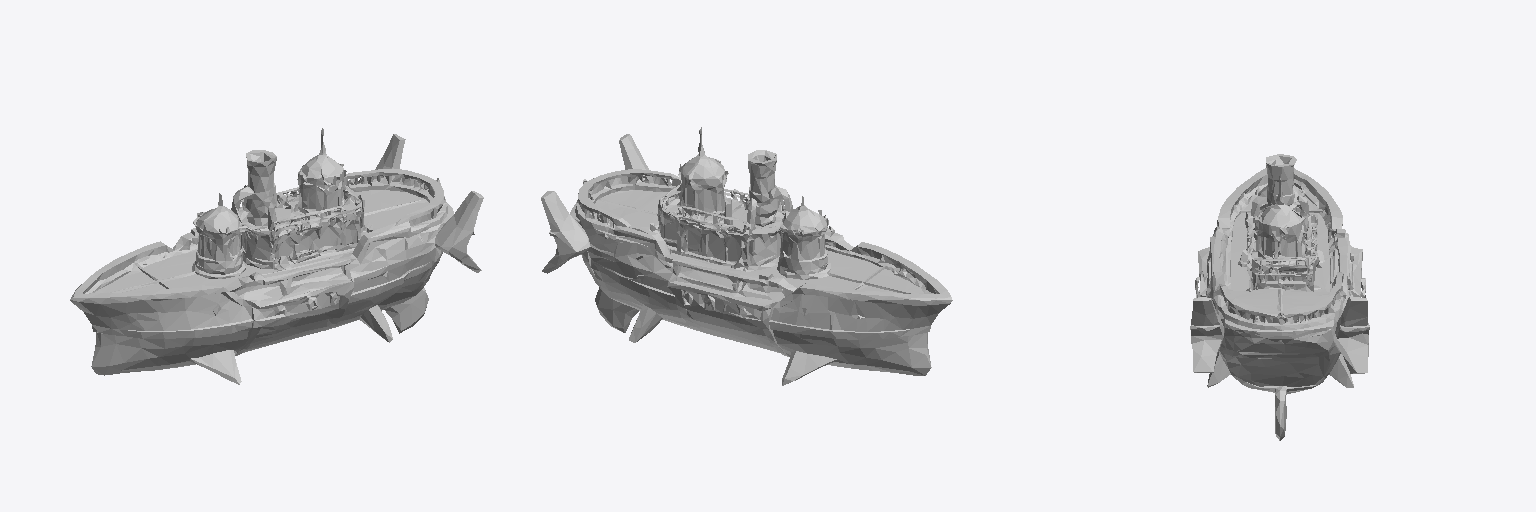
Rendered from Steampunk_Vessel_0513225445_texture.obj.
3 renders of one model, left to right at view 1: azimuth 30°, elevation 25°; view 2: azimuth 150°, elevation 25°; view 3: azimuth 270°, elevation 25°, orthographic.
Visible parts, largest first — view 1: Steampunk_Vessel_[number redacted]_texture; view 2: Steampunk_Vessel_[number redacted]_texture; view 3: Steampunk_Vessel_[number redacted]_texture.
Boxes of the visible parts, x1,y1,x2,y2 form: Steampunk_Vessel_[number redacted]_texture: [70, 128, 483, 384]; Steampunk_Vessel_[number redacted]_texture: [541, 127, 952, 385]; Steampunk_Vessel_[number redacted]_texture: [1190, 154, 1369, 440].
Bounding box in the file's own units: 2 × 1.16 × 0.8424.